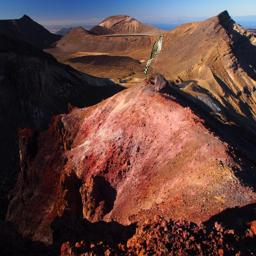Cuckoo: (144, 35, 164, 75)
